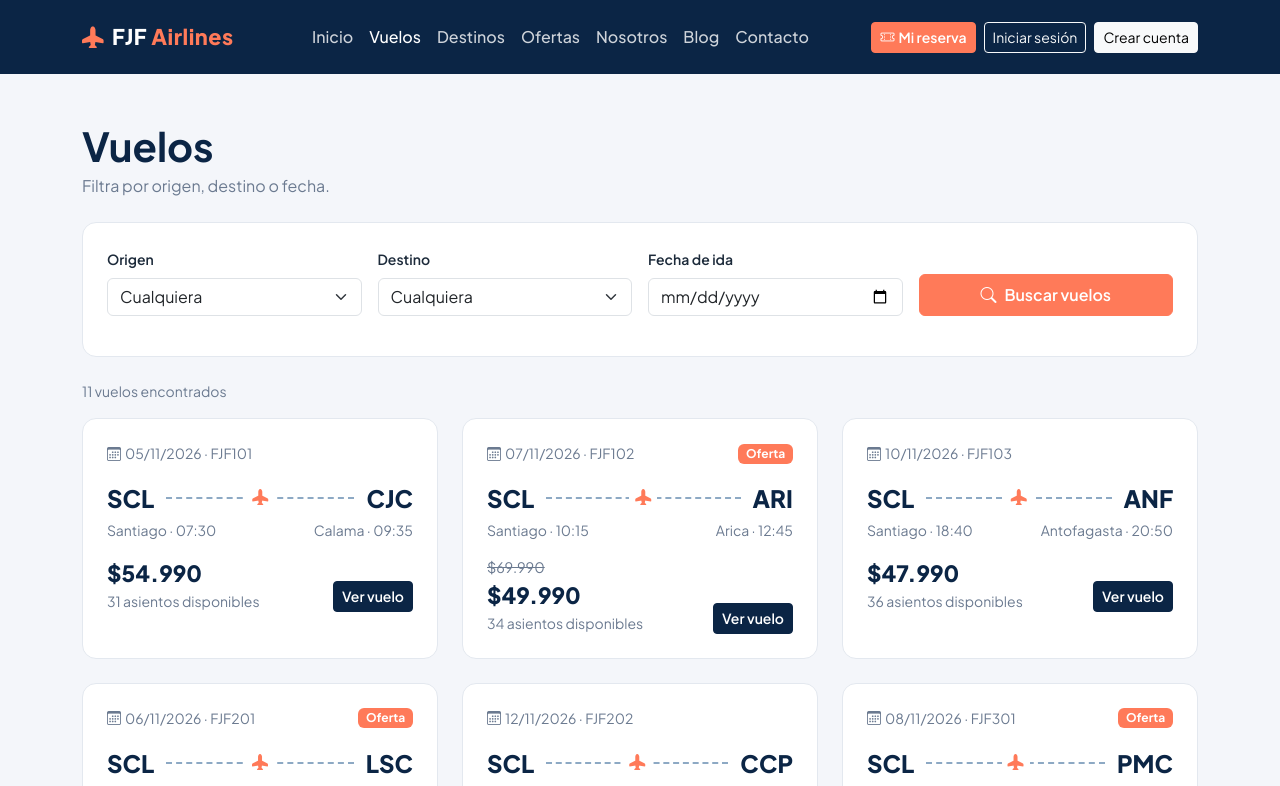
Test: Búsqueda de vuelos › no permite buscar con el mismo origen y destino
The image size is (1280, 786).
Select "Santiago (SCL)" in the dropdown labelled "Origen" at (234, 297), box [107, 278, 362, 316]
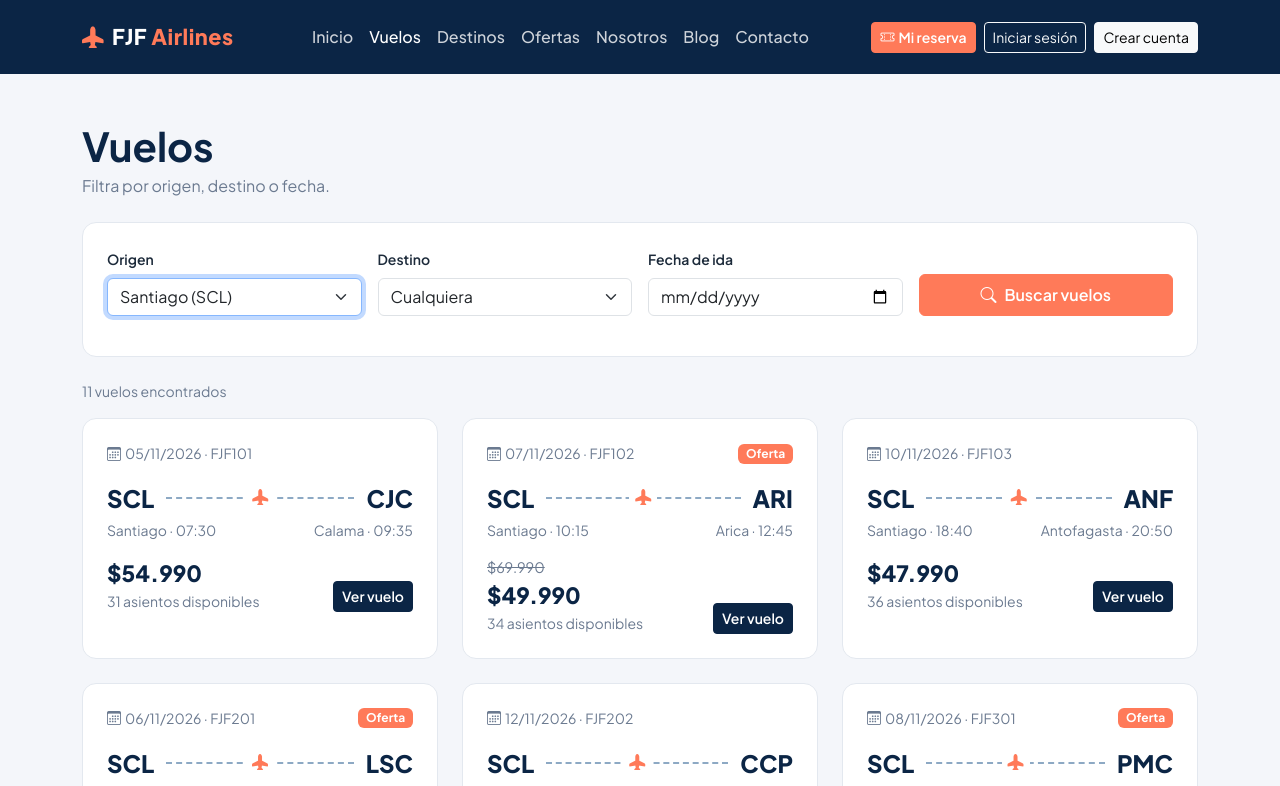
Select "Santiago (SCL)" in the dropdown labelled "Destino" at (505, 297), box [378, 278, 632, 316]
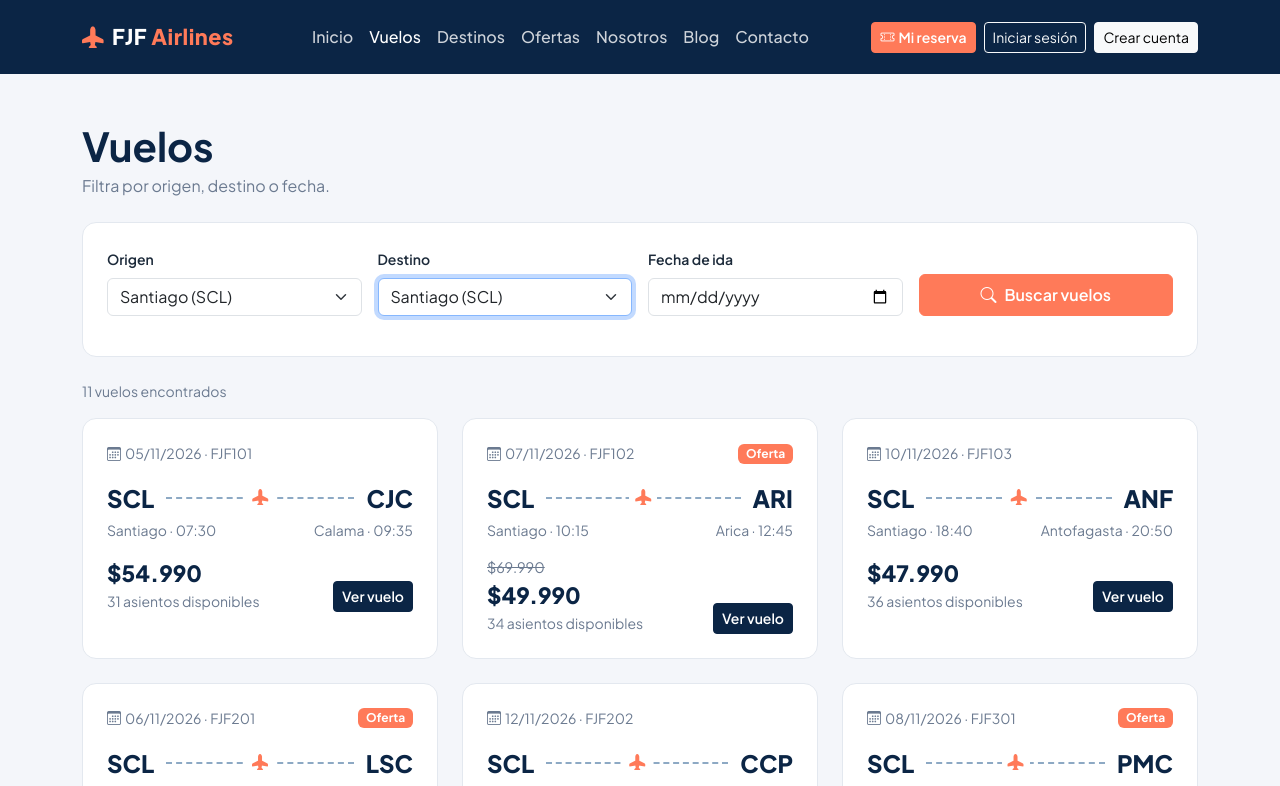
Click the button "Buscar vuelos" at (1046, 295), box [918, 274, 1173, 316]
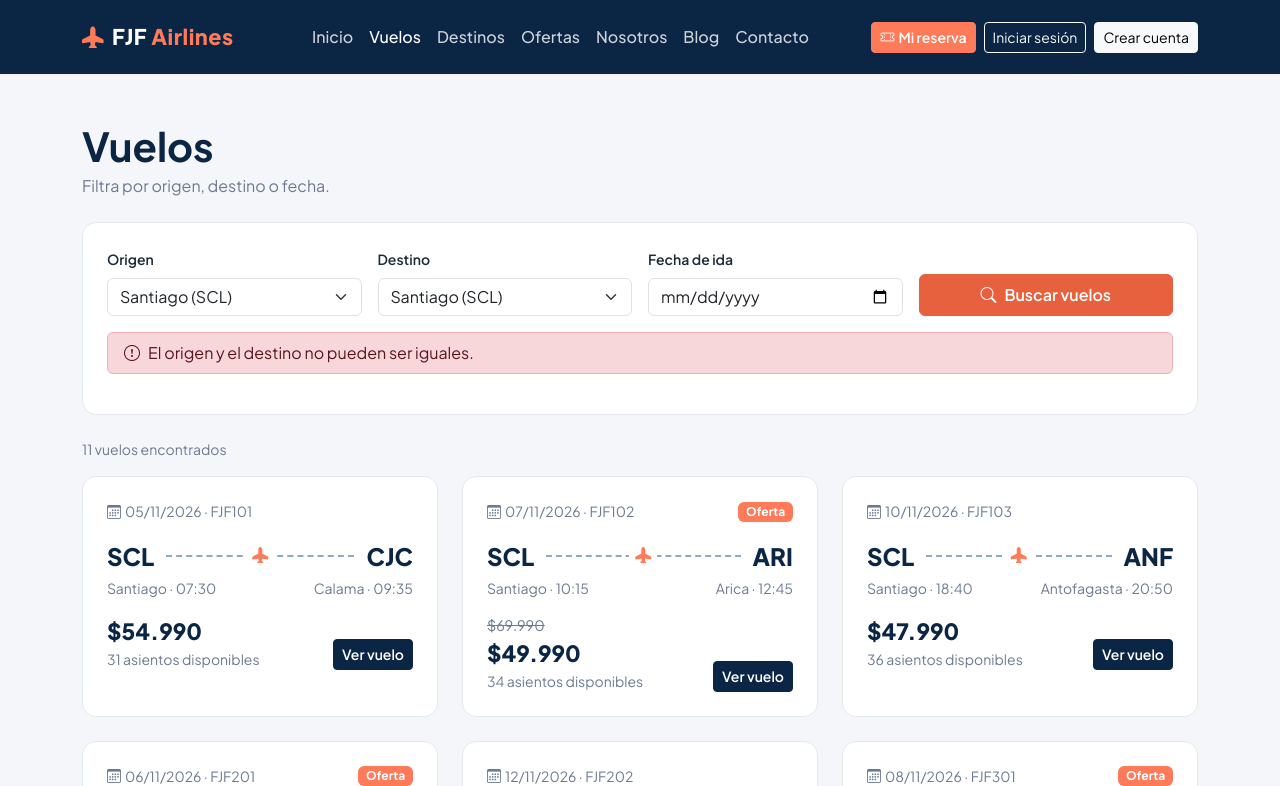
expect the message shows "no pueden ser iguales": met, box [148, 342, 474, 363]
